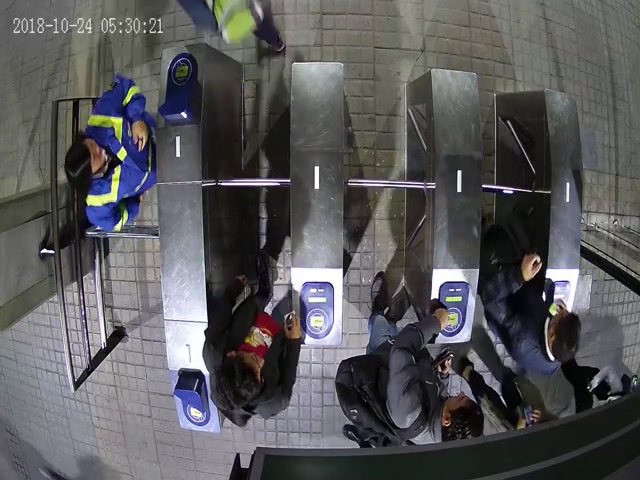Chaleco_azul: (65, 75, 158, 232)
